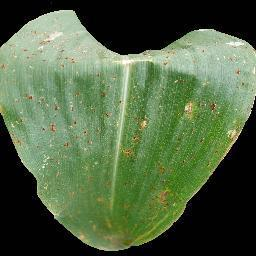Corn_Common_Rust: (113, 25, 256, 163), (0, 7, 108, 167), (74, 218, 143, 252), (28, 170, 52, 220), (149, 185, 173, 208), (103, 175, 114, 188), (156, 162, 166, 175), (94, 196, 106, 203)
